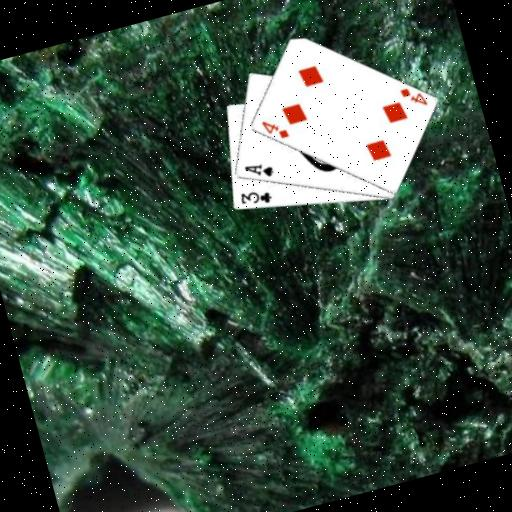3C: (236, 183, 275, 212)
4D: (395, 80, 429, 113), (257, 112, 290, 145)
AS: (240, 156, 276, 184)
